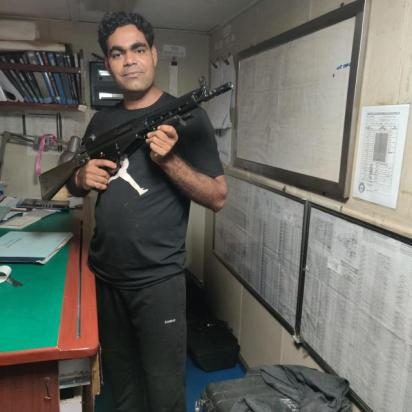Gun: (37, 74, 235, 203)
